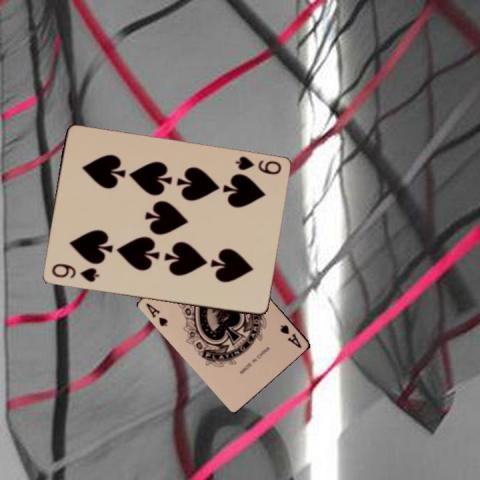9s: (232, 153, 283, 177), (49, 261, 100, 284)
As: (144, 300, 170, 328), (278, 322, 304, 349)
